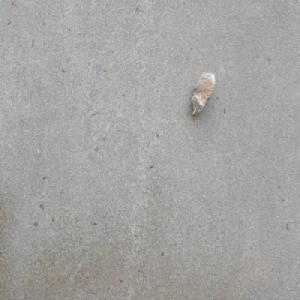Rock: (190, 69, 216, 118)
